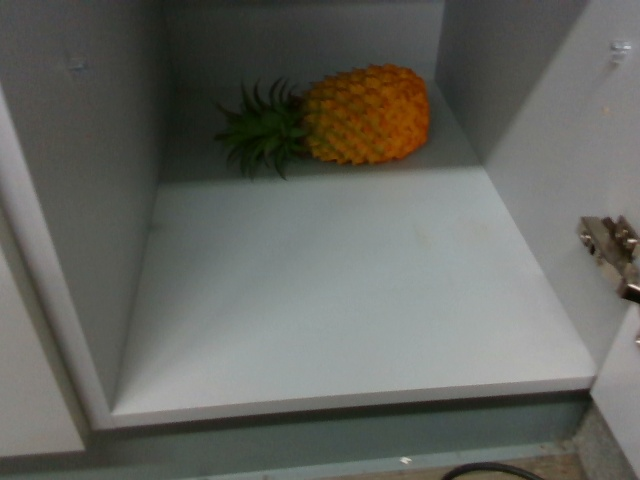pineapple: (232, 62, 435, 173)
